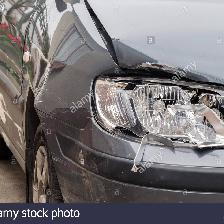broken_light: (51, 27, 224, 195)
